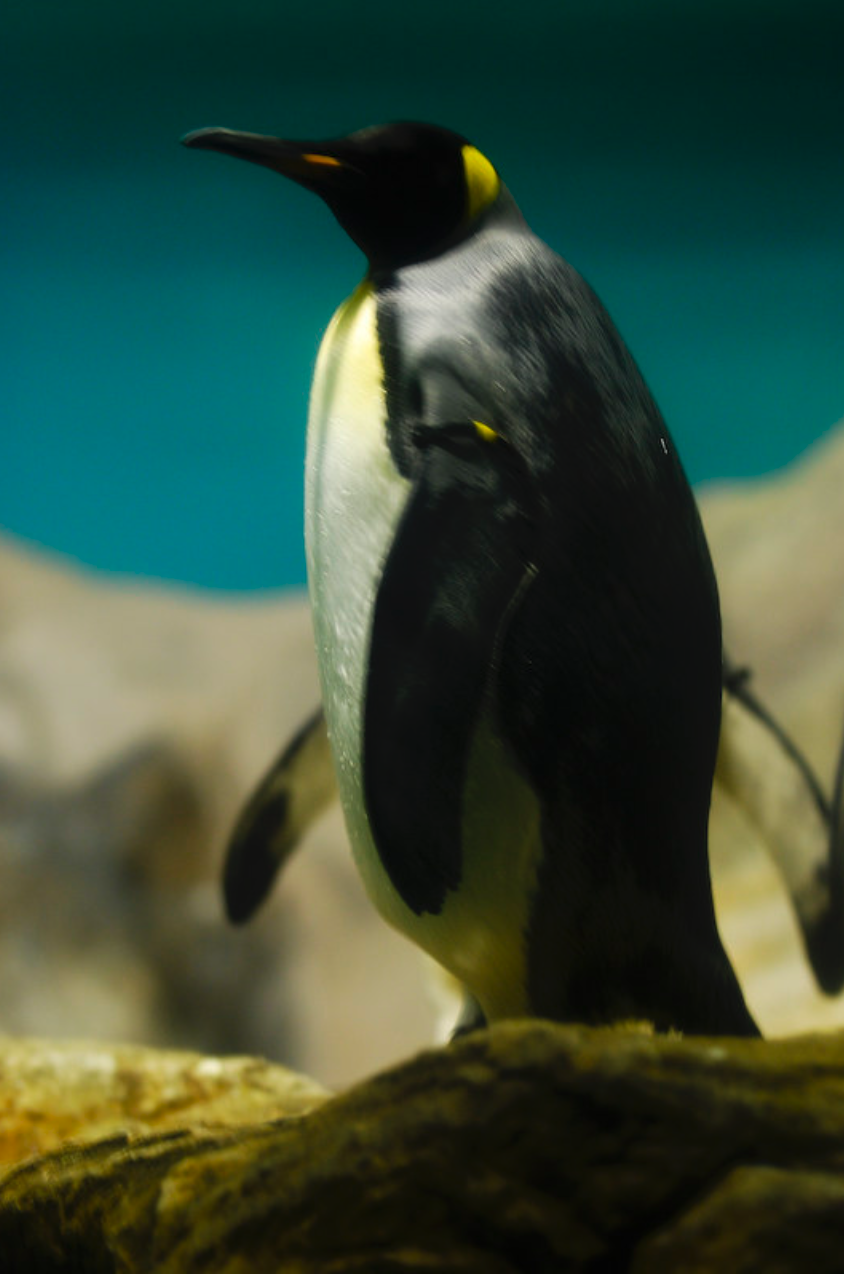penguin: (160, 113, 774, 1067)
